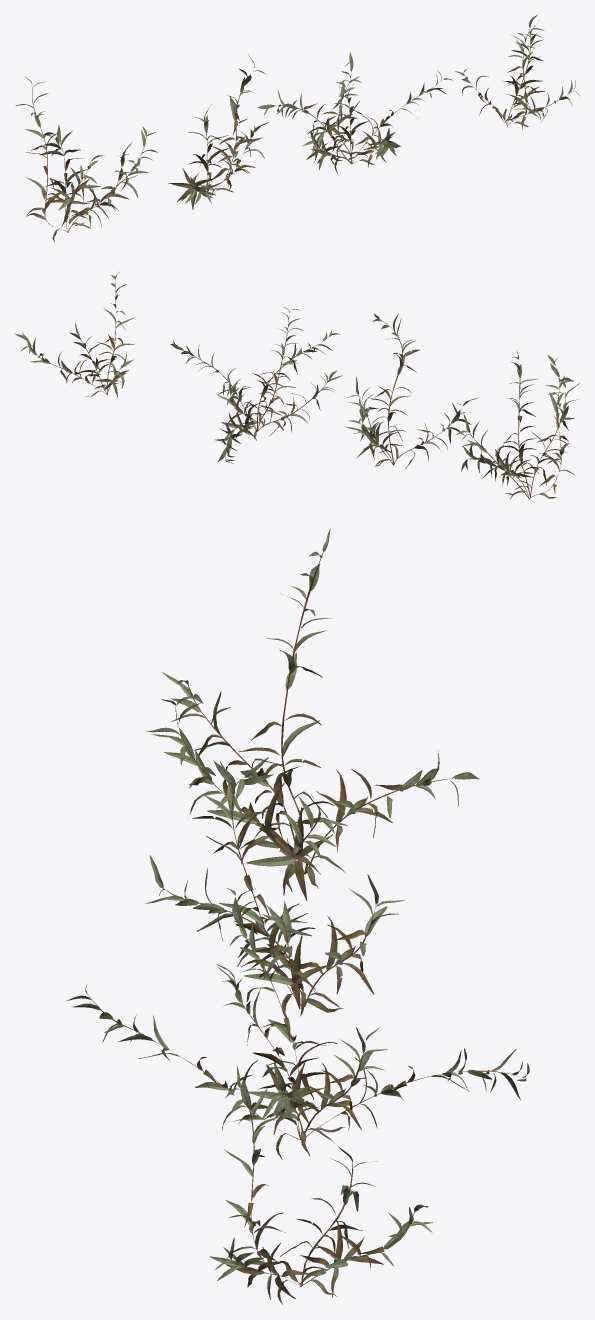
The model's file is shrub_02.glb.
3 views of the same model, one above another, from view 1: azimuth 30°, elevation 25°; view 2: azimuth 150°, elevation 25°; view 3: azimuth 270°, elevation 25° (orthographic). The views are drawn at different scales.
Parts seen in each view (by area): view 1: shrub_02_c, shrub_02_a, shrub_02_b, shrub_02_d; view 2: shrub_02_a, shrub_02_c, shrub_02_b, shrub_02_d; view 3: shrub_02_a, shrub_02_c, shrub_02_b, shrub_02_d.
Boxes of the visible parts, x1,y1,x2,y2 form: shrub_02_c: (257,52,452,174); shrub_02_a: (15,76,157,242); shrub_02_b: (168,55,268,209); shrub_02_d: (455,15,580,129); shrub_02_a: (456,350,579,499); shrub_02_c: (170,307,342,463); shrub_02_b: (345,313,478,468); shrub_02_d: (15,272,134,398); shrub_02_a: (146,528,479,900); shrub_02_c: (66,888,529,1159); shrub_02_b: (145,757,404,1017); shrub_02_d: (210,1066,432,1304).
Bounding box in the file's own units: 6.05 × 1.7 × 2.29.
Materials: 1 (1 with a texture image).
